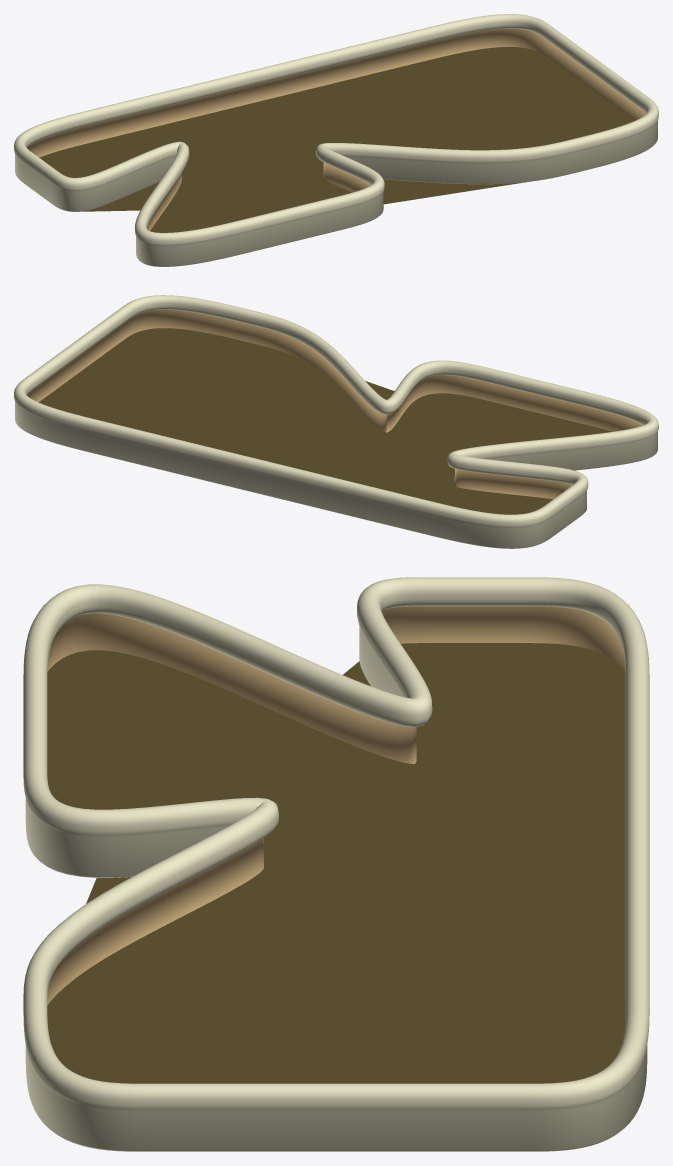
The model's file is NewStandartBox.fbx.
3 views of the same model, one above another, from view 1: azimuth 30°, elevation 25°; view 2: azimuth 150°, elevation 25°; view 3: azimuth 270°, elevation 25° (orthographic). The views are drawn at different scales.
Parts seen in each view (by area): view 1: NurbsCircle.001; view 2: NurbsCircle.001; view 3: NurbsCircle.001.
Boxes of the visible parts, box(x1,y1,x2,y2) form: NurbsCircle.001: box(14, 14, 658, 266); NurbsCircle.001: box(14, 295, 658, 548); NurbsCircle.001: box(23, 577, 649, 1151).
Bounding box in the file's own units: 410 × 24.31 × 210.
